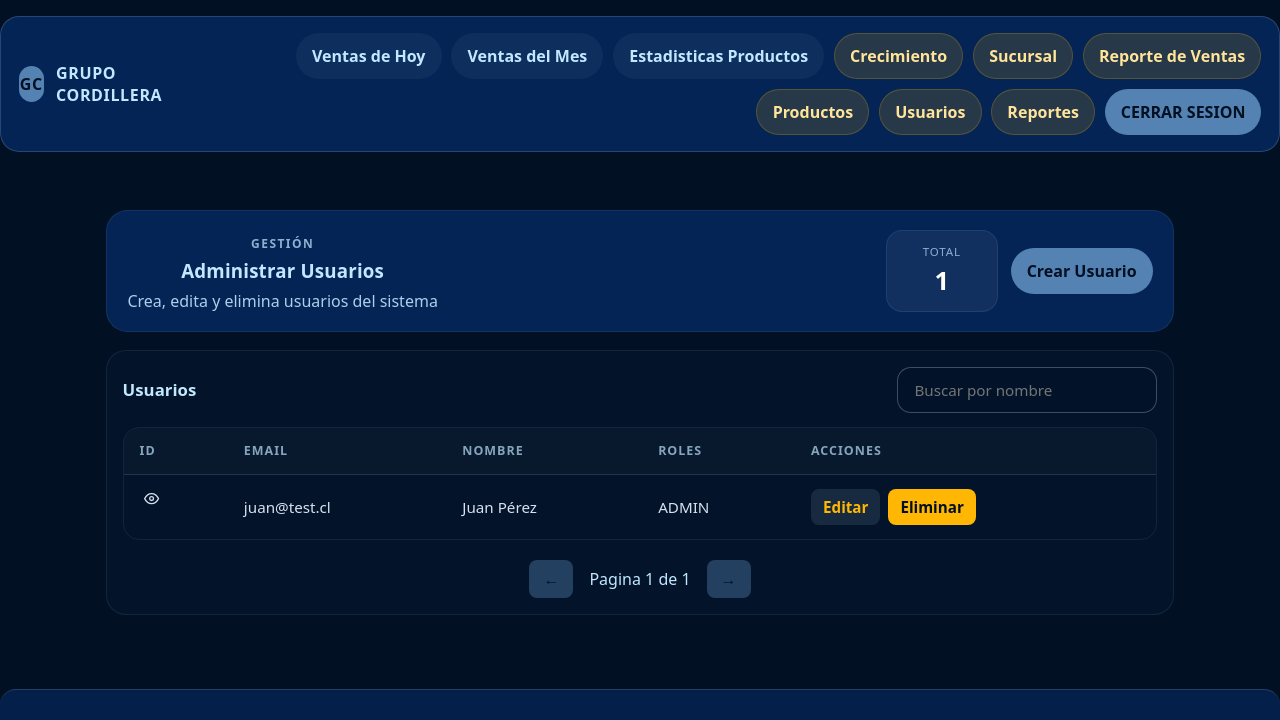
Test: AdminUsersPage › abre modal crear usuario
The width and height of the screenshot is (1280, 720).
Click the button "Crear Usuario".
click(1082, 271)  # box [1011, 248, 1153, 294]
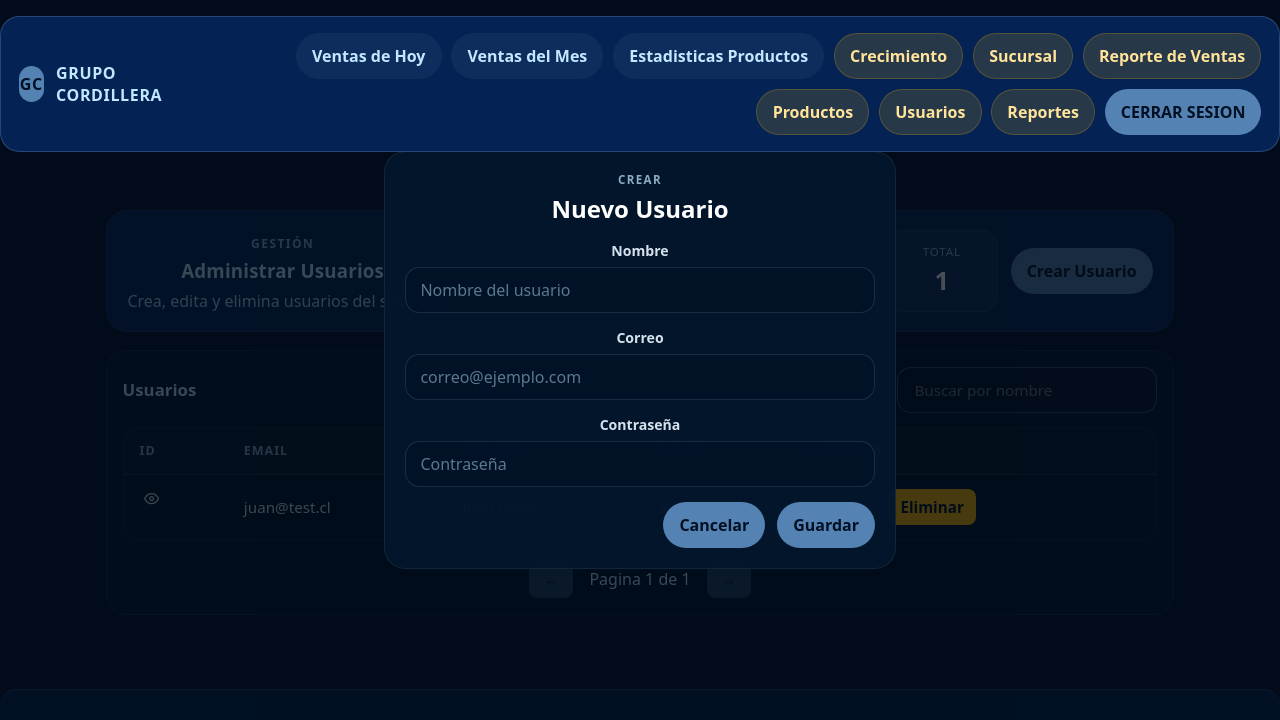
Expected: the heading "Nuevo Usuario" is shown, [551, 192, 729, 225]
